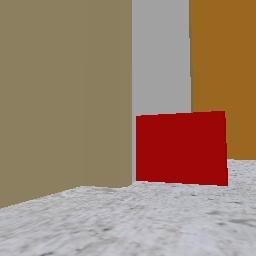rosu: (136, 111, 227, 185)
tonomat: (191, 0, 255, 159)
